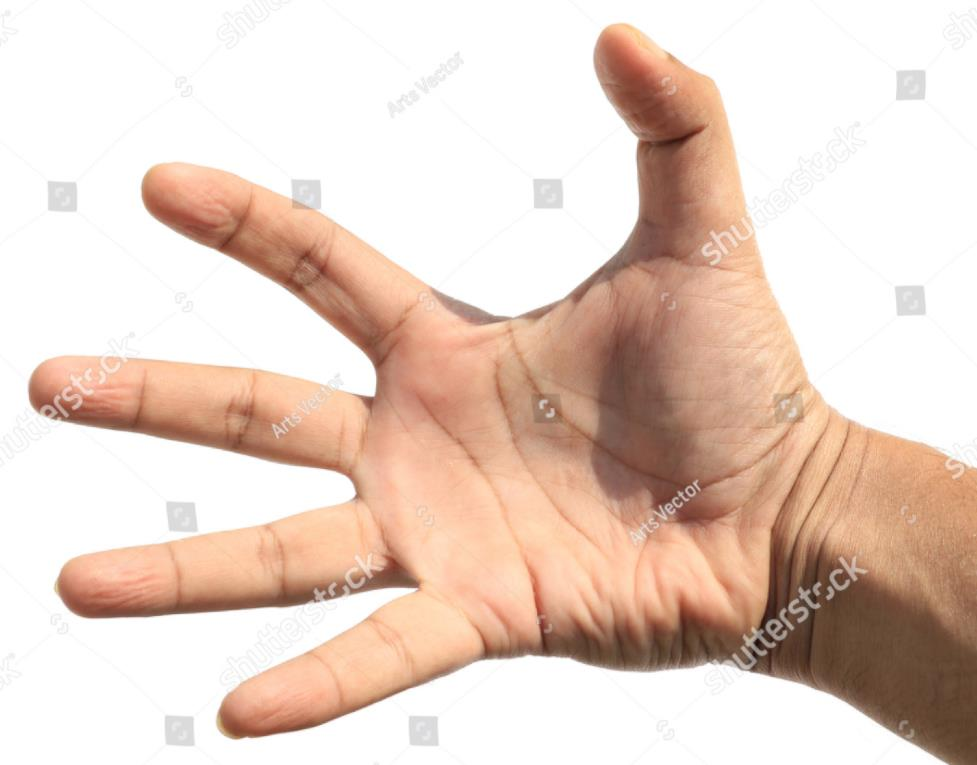down: (21, 21, 797, 742)
